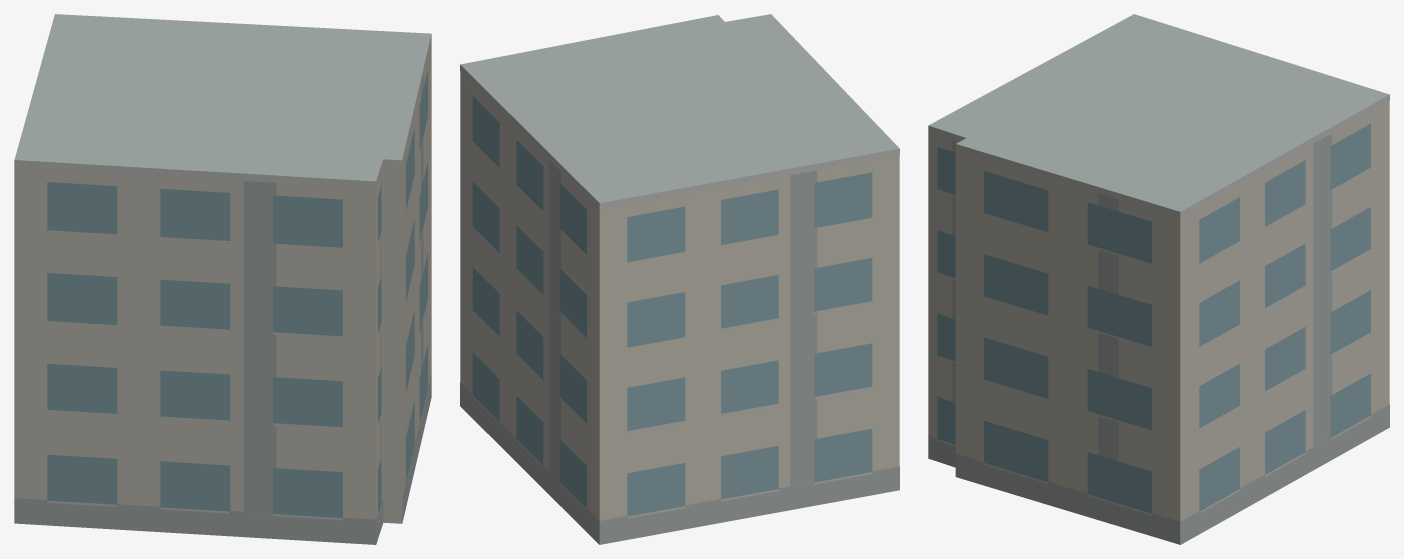
File: residential-25813bc1-8086-4dd4-9834-dbd98949e6ec.glb
3 renders of one model, left to right at view 1: azimuth 30°, elevation 25°; view 2: azimuth 150°, elevation 25°; view 3: azimuth 270°, elevation 25°, orthographic. The views are drawn at different scales.
Visible parts, largest first — view 1: residential-25813bc1-8086-4dd4-9834-dbd98949e6ec.tmp; view 2: residential-25813bc1-8086-4dd4-9834-dbd98949e6ec.tmp; view 3: residential-25813bc1-8086-4dd4-9834-dbd98949e6ec.tmp.
Part boxes in pixels (x1=…): residential-25813bc1-8086-4dd4-9834-dbd98949e6ec.tmp: x1=14, y1=14, x2=431, y2=544; residential-25813bc1-8086-4dd4-9834-dbd98949e6ec.tmp: x1=460, y1=14, x2=899, y2=544; residential-25813bc1-8086-4dd4-9834-dbd98949e6ec.tmp: x1=928, y1=14, x2=1389, y2=544.
Bounding box in the file's own units: 15.55 × 12.2 × 15.33.
